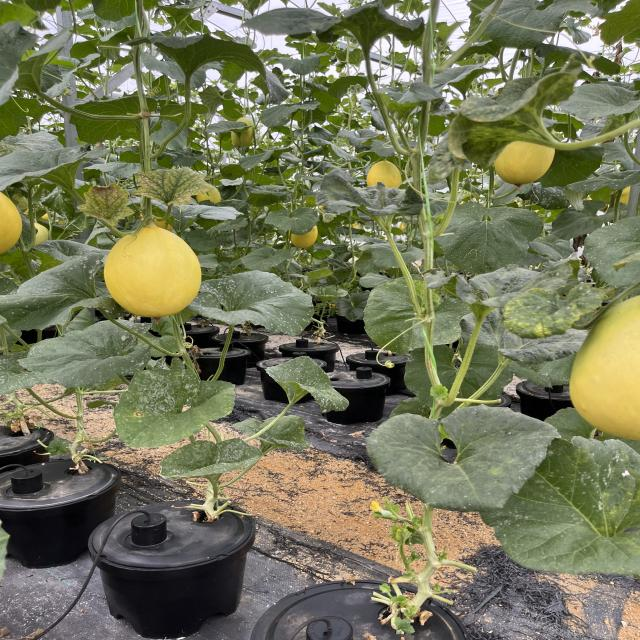CMV: (139, 168, 212, 207)
alternaria leaf blight: (105, 367, 244, 448), (70, 184, 141, 228)
downy mildew: (487, 438, 639, 577), (368, 407, 554, 509), (101, 367, 240, 451), (422, 202, 550, 275), (400, 58, 508, 105), (583, 215, 640, 288), (342, 1, 418, 51), (571, 172, 640, 208)
healthy: (0, 257, 112, 331), (464, 0, 596, 50), (0, 130, 103, 192), (152, 32, 268, 82), (556, 82, 640, 119), (0, 98, 55, 140)
powdery mildew: (26, 322, 155, 387), (190, 272, 314, 335), (153, 432, 270, 486), (262, 355, 342, 414), (0, 350, 47, 398)
